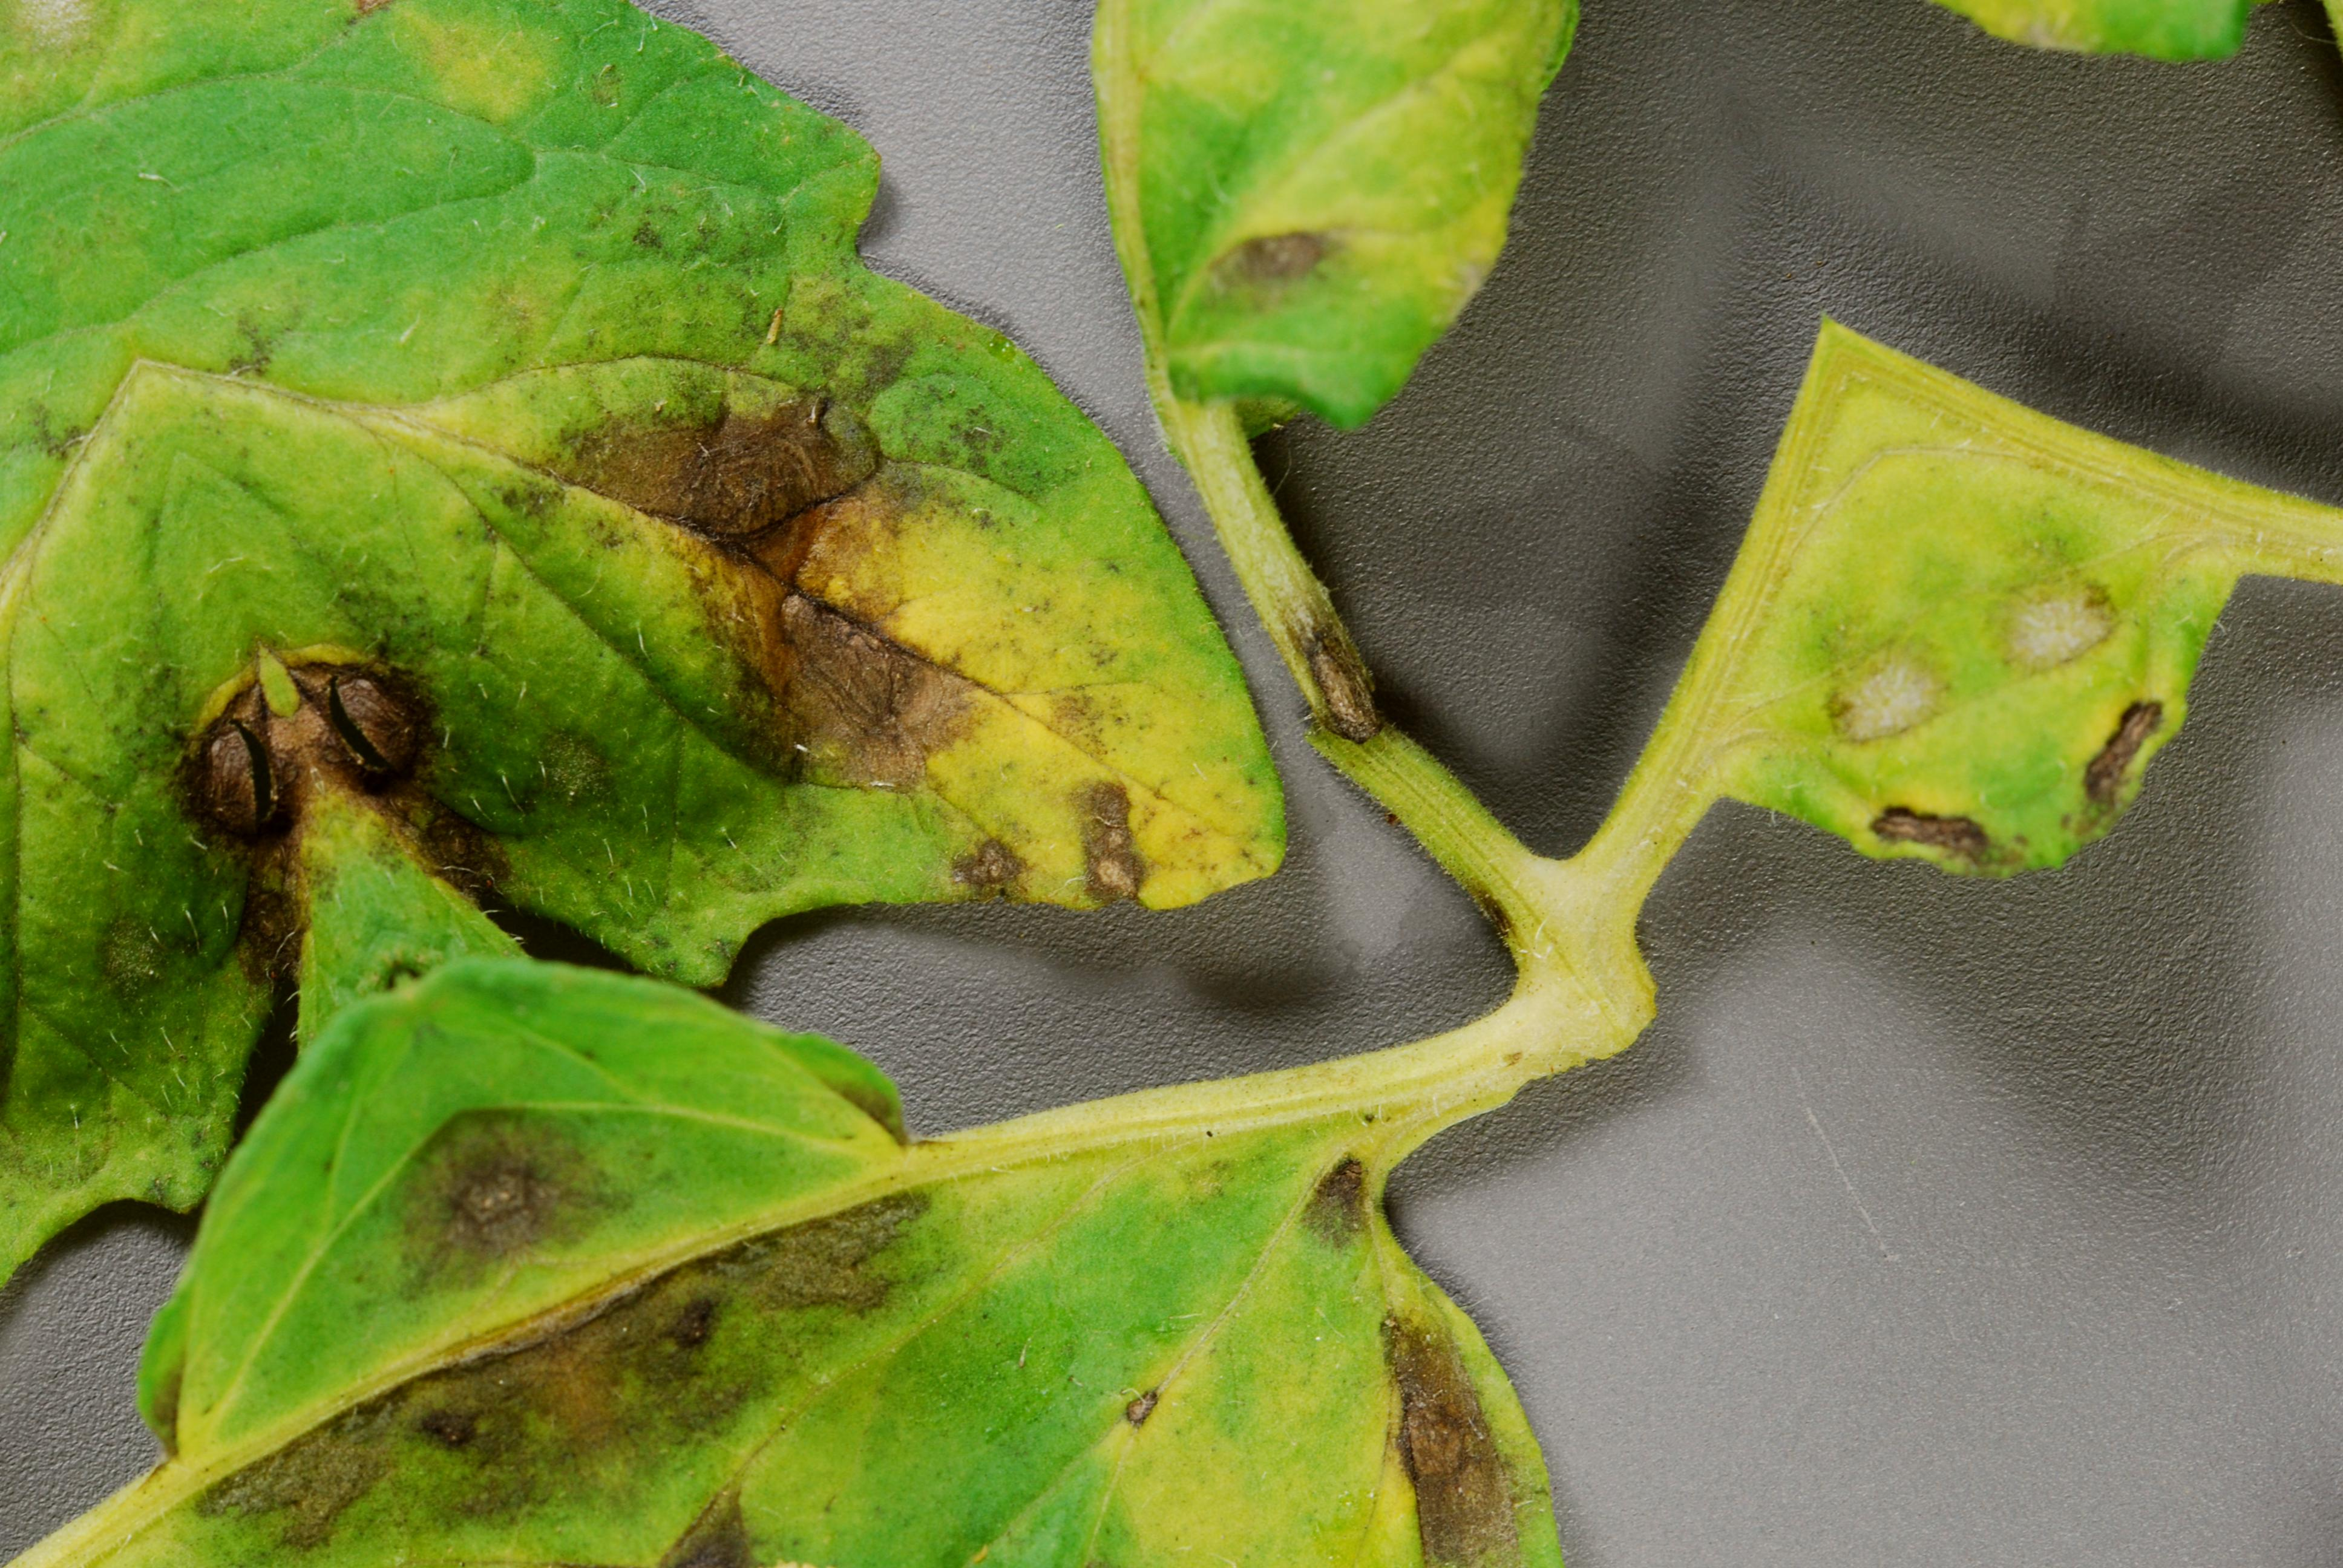Tomato Early blight leaf: (7, 0, 1354, 1258), (544, 955, 1718, 1568)
